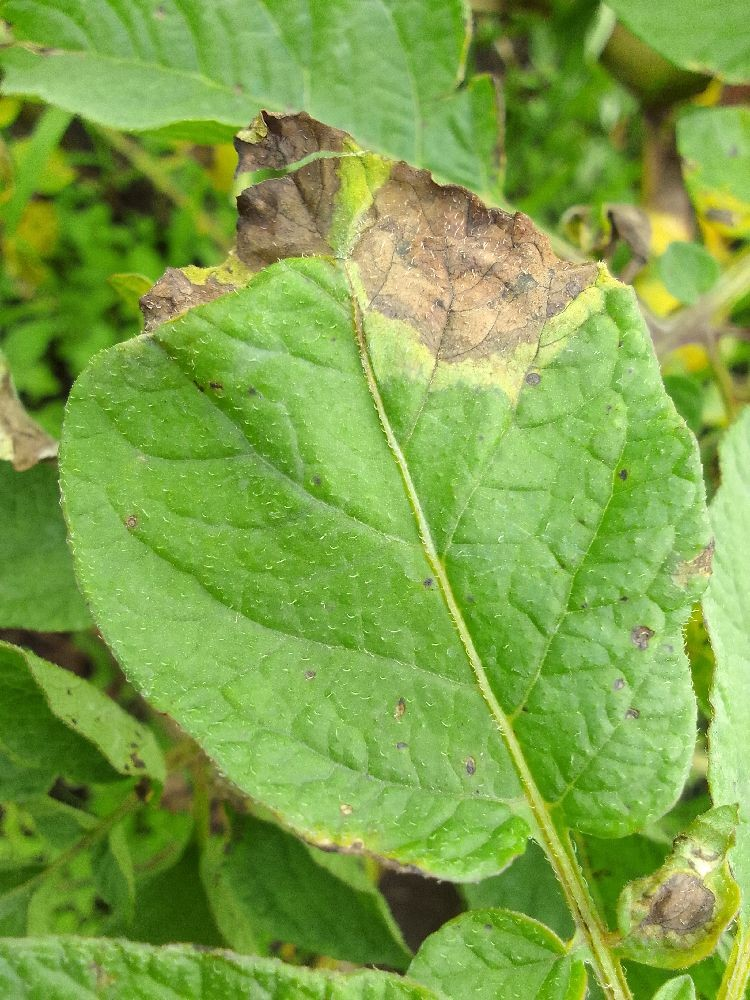late_blight: (122, 93, 554, 381), (44, 107, 192, 241), (460, 0, 563, 115), (629, 864, 723, 947)
